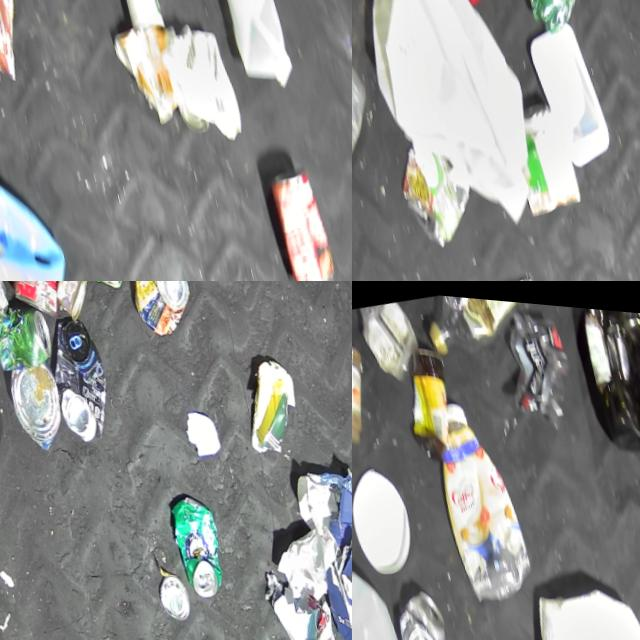can: (383, 117, 478, 257), (496, 85, 588, 218), (38, 306, 121, 443), (265, 151, 340, 281), (165, 480, 234, 596), (3, 354, 71, 452), (0, 292, 58, 371), (388, 576, 457, 640), (123, 281, 198, 334), (0, 281, 81, 320), (155, 562, 194, 616), (46, 281, 96, 317), (111, 0, 165, 28)
milk_jug: (352, 0, 555, 253), (198, 0, 298, 88), (352, 544, 429, 640)
non_white_jug: (564, 298, 640, 457), (0, 149, 91, 281)
plastic_bottle: (417, 289, 547, 362), (499, 0, 619, 40)
